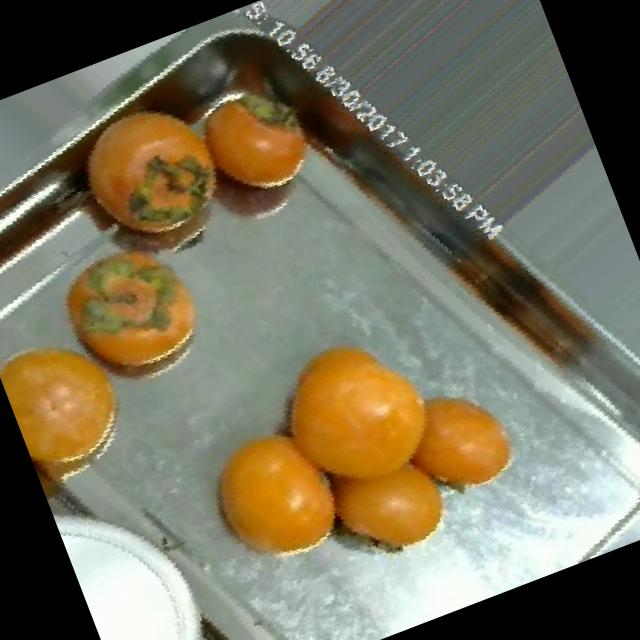Fruit: (18, 198, 240, 424), (167, 390, 376, 600), (354, 355, 544, 535), (0, 301, 162, 500)
